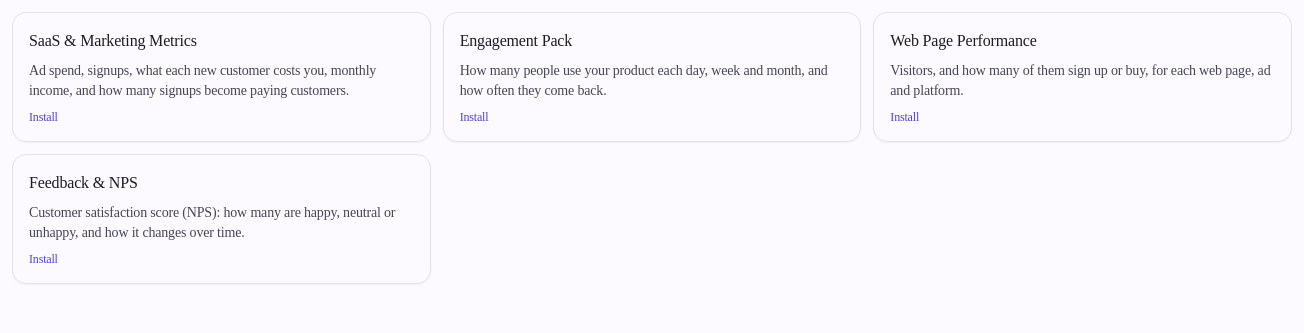
Scenario: InstallBuiltinPackSection › shows an inline error and does not refresh when install fails
The image size is (1304, 333).
Click the text "Engagement Pack" at (516, 41), box left=460, top=29, right=572, bottom=53
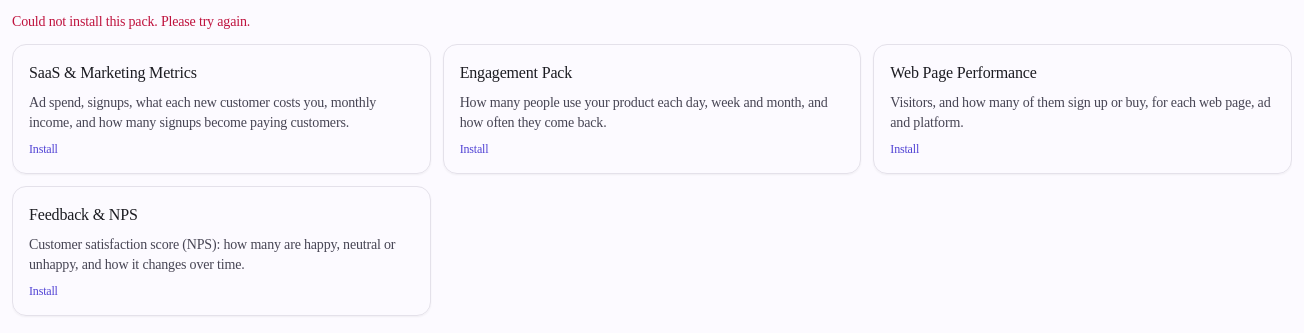
Result: the message reads "Could not install this pack. Please try again." at left=12, top=14, right=250, bottom=29
